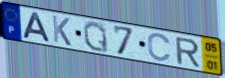7: (113, 24, 136, 57)
A: (21, 11, 53, 44)
C: (147, 32, 173, 63)
K: (51, 14, 73, 48)
Q: (82, 20, 110, 54)
R: (174, 36, 202, 68)
